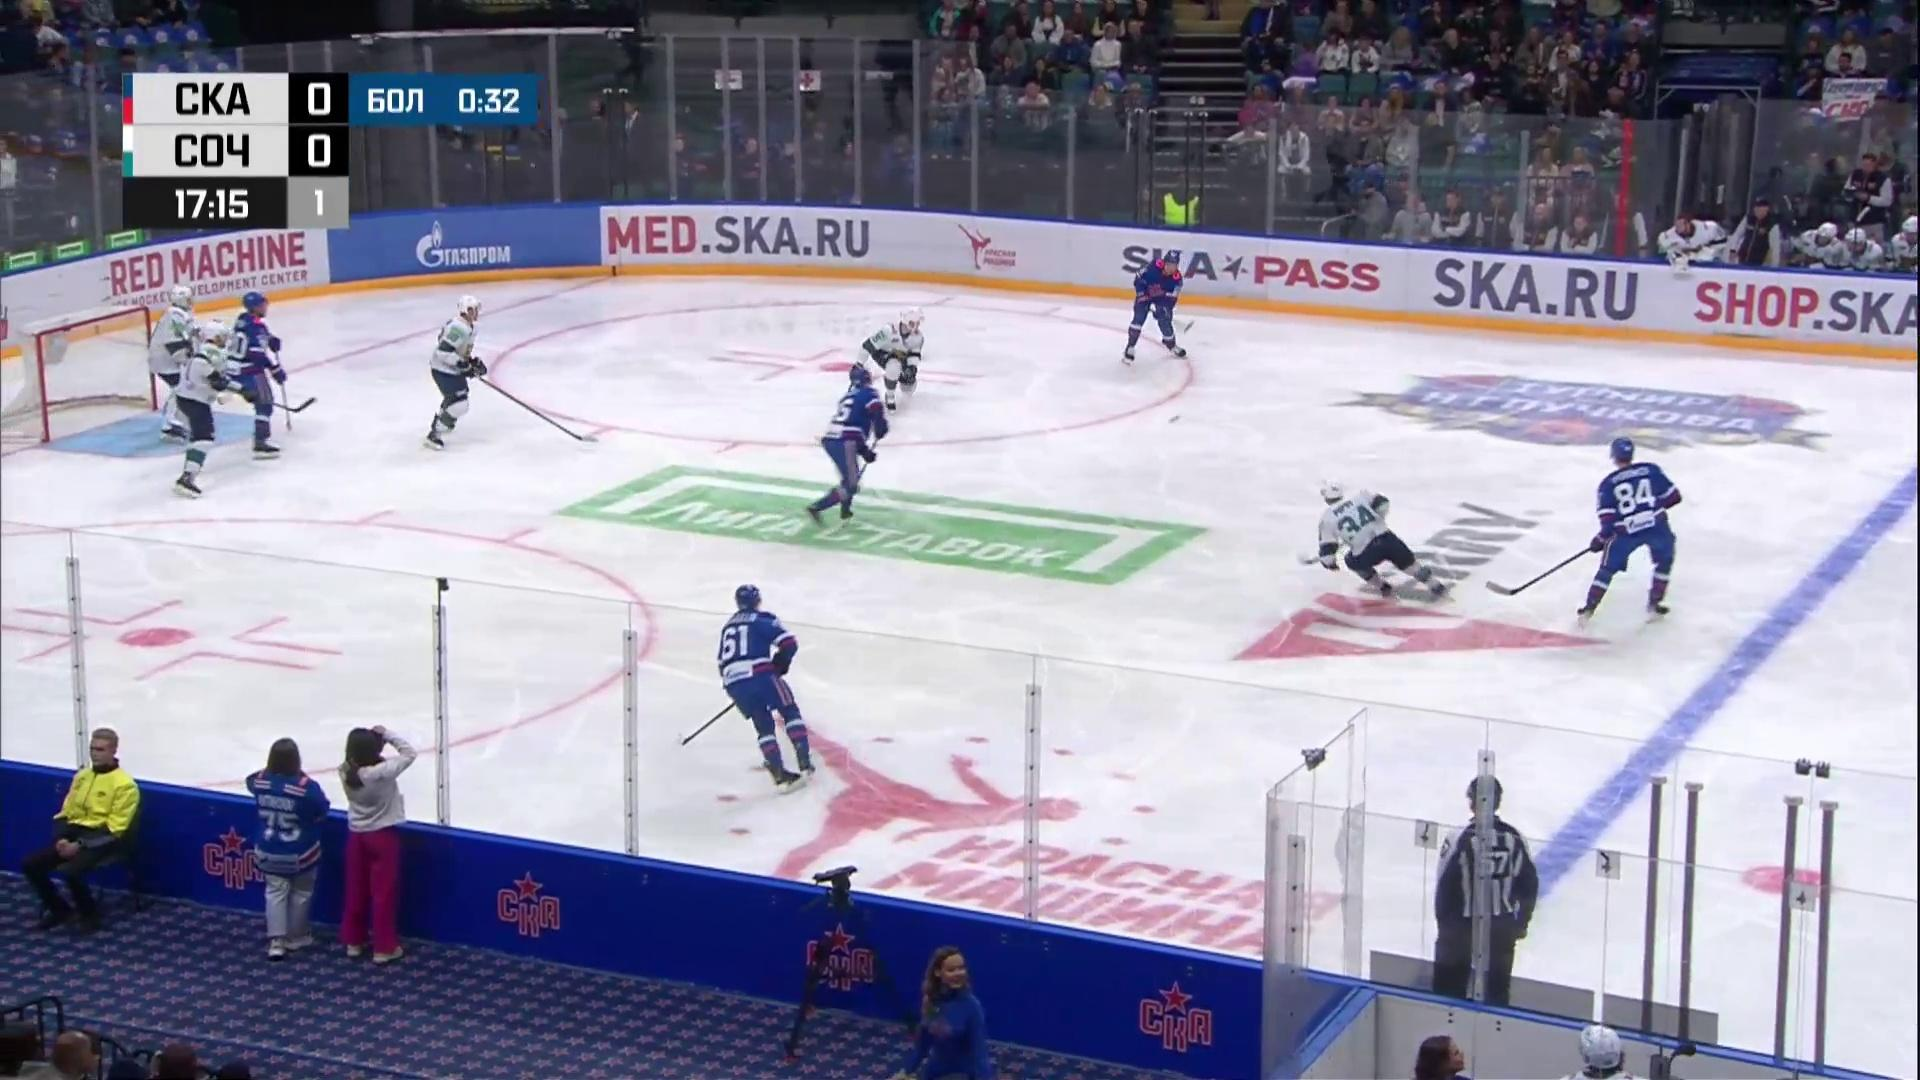ball: (1168, 415, 1180, 423)
